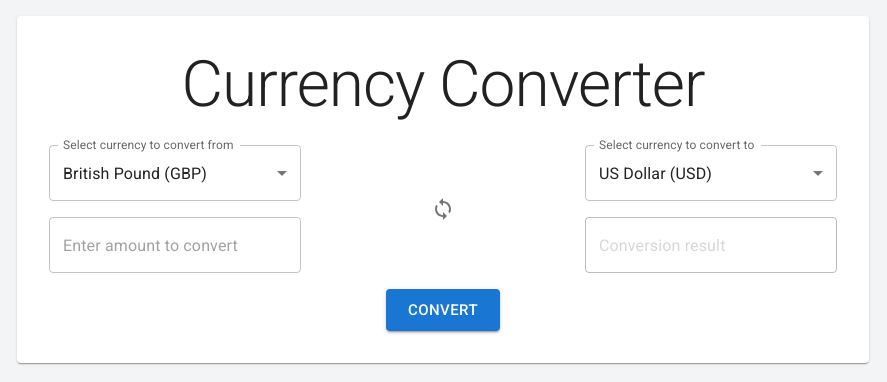
CurrencyConverter › shows conversion result after clicking Convert
Expected: the element with test id "from-currency-dropdown" holds "GBP", top-left (49, 145), bottom-right (301, 201)
Expected: the element with test id "to-currency-dropdown" holds "USD", top-left (585, 145), bottom-right (837, 201)
Step 1. Type "10" into the field with placeholder "Enter amount to convert" → coordinates (175, 245), box top-left (49, 217), bottom-right (301, 273)
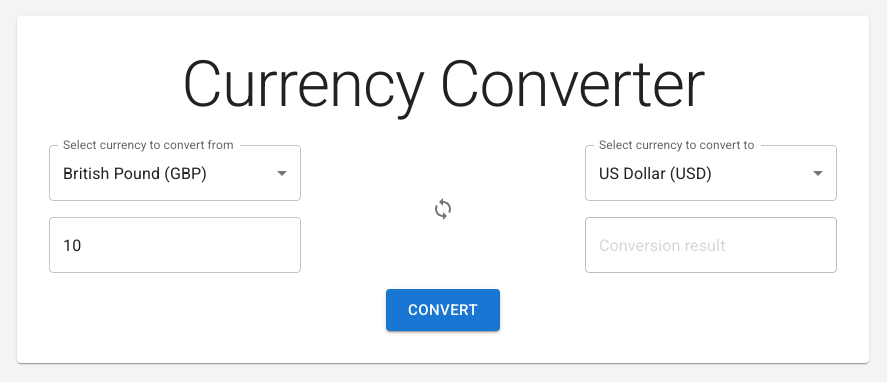
Step 2. Click the button "Convert" → coordinates (443, 310), box top-left (386, 289), bottom-right (500, 331)
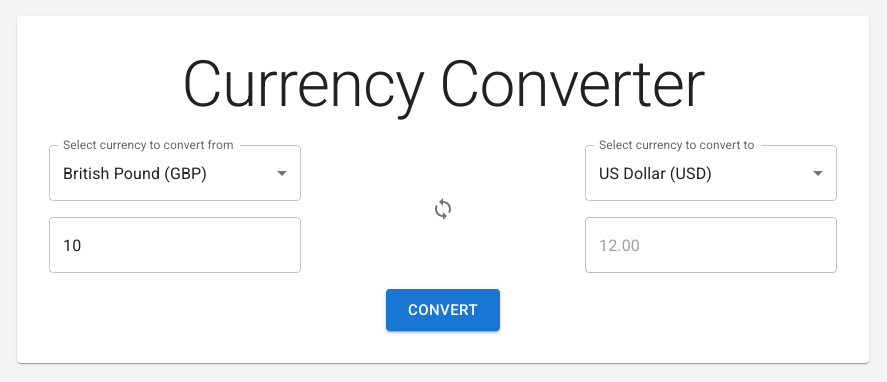
Expected: the field with placeholder "Conversion result" below "US Dollar (USD)" holds "12.00", top-left (585, 217), bottom-right (837, 273)
